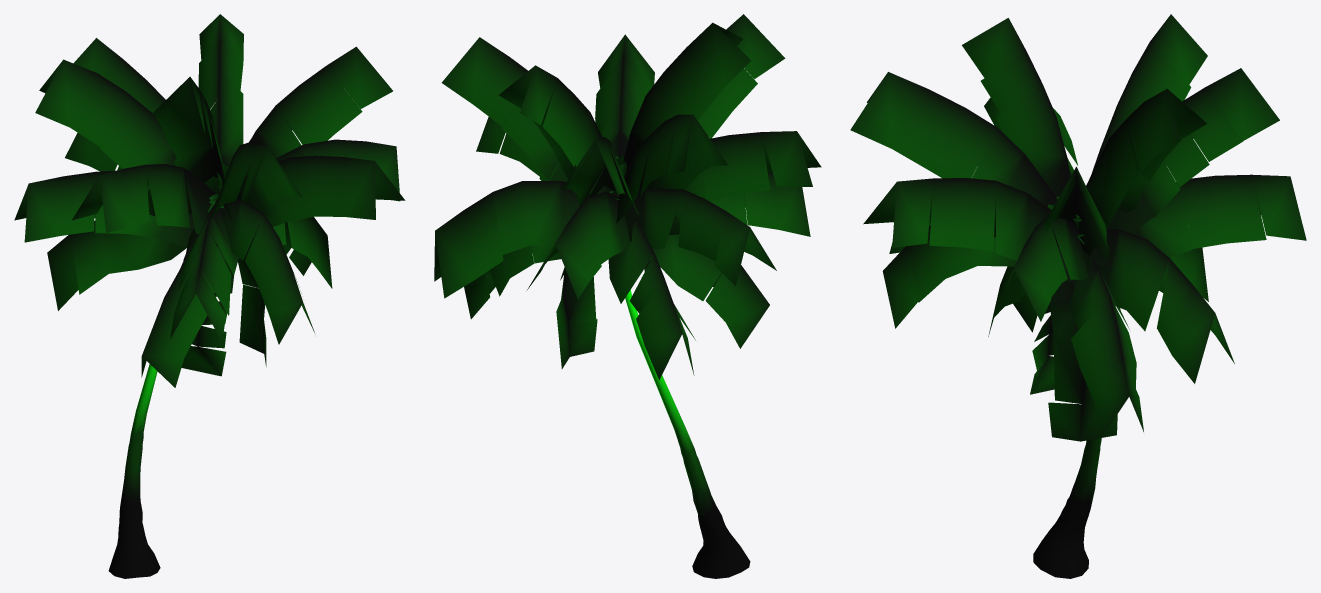
Rendered from CoconutPalmTree01_afsTREE_xlprl10_xef99_uv2_xds10_xlod01.fbx.
The picture shows the model from 3 angles, left to right: view 1: azimuth 30°, elevation 25°; view 2: azimuth 150°, elevation 25°; view 3: azimuth 270°, elevation 25°; orthographic projection. The views are drawn at different scales.
Visible parts, largest first — view 1: branch_xw08_xt08_xlp05_xp02, branch_xw09_xt05_xlp05_xp07, branch_xw08_xt08_xlp05_xp09, branch_xw08_xt09_xlp06_xp06, branch_xw06_xt04_xlp03, branch_xw08_xt08_xlp06_xp10, branch_xw05_xt06_xlp04_xp04, branch_xw10_xt10_xlp08, branch_xw06_xt05_xlp04, branch_xw09_xt09_xlp05_xp07, trunk_xw06_xt05_xlp00, branch_xw05_xt06_xlp06_xp04 (+7 smaller); view 2: branch_xw07_xt06_xlp06_xp10, branch_xw08_xt08_xlp06_xp10, branch_xw09_xt09_xlp05_xp07, branch_xw08_xt08_xlp05_xp09, branch_xw09_xt05_xlp05_xp07, branch_xw06_xt04_xlp03, branch_xw08_xt08_xlp05_xp02, branch_xw10_xt10_xlp08, trunk_xw06_xt05_xlp00, branch_xw05_xt06_xlp06_xp04, branch_xw06_xt07_xlp04, branch_xw08_xt09_xlp06_xp06 (+6 smaller); view 3: branch_xw07_xt06_xlp04_xp05, branch_xw08_xt09_xlp06_xp06, branch_xw06_xt07_xlp04, branch_xw07_xt06_xlp06_xp10, branch_xw09_xt09_xlp05_xp07, branch_xw08_xt08_xlp05_xp10.001, branch_xw10_xt10_xlp08, branch_xw07_xt06_xlp03_xp09, branch_xw05_xt07_xlp03_xp03, branch_xw08_xt08_xlp05_xp02, branch_xw05_xt06_xlp04_xp04, branch_xw08_xt08_xlp05 (+6 smaller).
Boxes of the visible parts, bbox=[...] form: branch_xw08_xt08_xlp05_xp02: bbox=[35, 59, 176, 189]; branch_xw09_xt05_xlp05_xp07: bbox=[249, 46, 392, 248]; branch_xw08_xt08_xlp05_xp09: bbox=[71, 164, 215, 242]; branch_xw08_xt09_xlp06_xp06: bbox=[215, 155, 405, 246]; branch_xw06_xt04_xlp03: bbox=[47, 221, 186, 310]; branch_xw08_xt08_xlp06_xp10: bbox=[14, 170, 194, 246]; branch_xw05_xt06_xlp04_xp04: bbox=[221, 199, 314, 344]; branch_xw10_xt10_xlp08: bbox=[198, 14, 243, 166]; branch_xw06_xt05_xlp04: bbox=[170, 200, 238, 341]; branch_xw09_xt09_xlp05_xp07: bbox=[152, 76, 231, 221]; trunk_xw06_xt05_xlp00: bbox=[108, 364, 160, 578]; branch_xw05_xt06_xlp06_xp04: bbox=[141, 233, 225, 387]; branch_xw07_xt06_xlp06_xp10: bbox=[434, 181, 590, 298]; branch_xw08_xt08_xlp06_xp10: bbox=[624, 188, 776, 286]; branch_xw09_xt09_xlp05_xp07: bbox=[623, 22, 751, 178]; branch_xw08_xt08_xlp05_xp09: bbox=[673, 131, 821, 220]; branch_xw09_xt05_xlp05_xp07: bbox=[441, 37, 568, 181]; branch_xw06_xt04_xlp03: bbox=[608, 216, 695, 379]; branch_xw08_xt08_xlp05_xp02: bbox=[616, 114, 727, 223]; branch_xw10_xt10_xlp08: bbox=[499, 65, 615, 194]; trunk_xw06_xt05_xlp00: bbox=[625, 290, 750, 578]; branch_xw05_xt06_xlp06_xp04: bbox=[653, 234, 769, 348]; branch_xw06_xt07_xlp04: bbox=[527, 191, 629, 299]; branch_xw08_xt09_xlp06_xp06: bbox=[595, 34, 654, 159]; branch_xw07_xt06_xlp04_xp05: bbox=[850, 72, 1057, 206]; branch_xw08_xt09_xlp06_xp06: bbox=[863, 178, 1074, 282]; branch_xw06_xt07_xlp04: bbox=[1132, 174, 1306, 257]; branch_xw07_xt06_xlp06_xp10: bbox=[1082, 228, 1234, 383]; branch_xw09_xt09_xlp05_xp07: bbox=[962, 18, 1070, 196]; branch_xw08_xt08_xlp05_xp10.001: bbox=[1108, 68, 1279, 233]; branch_xw10_xt10_xlp08: bbox=[1077, 89, 1206, 258]; branch_xw07_xt06_xlp03_xp09: bbox=[1069, 259, 1143, 439]; branch_xw05_xt07_xlp03_xp03: bbox=[1048, 229, 1117, 441]; branch_xw08_xt08_xlp05_xp02: bbox=[1091, 14, 1207, 173]; branch_xw05_xt06_xlp04_xp04: bbox=[882, 225, 1016, 328]; branch_xw08_xt08_xlp05: bbox=[995, 215, 1088, 321].
Size of what is drawn, in the model's own units: 10.81 by 11.44 by 15.65.
